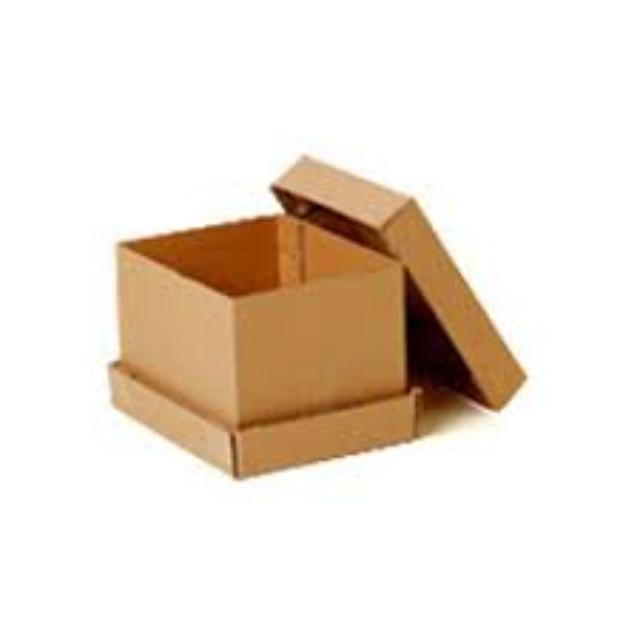cardboard paper: (108, 154, 518, 472), (267, 154, 521, 404), (114, 213, 401, 421)
